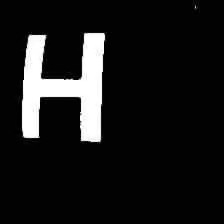LTR_H: (12, 24, 111, 145)
